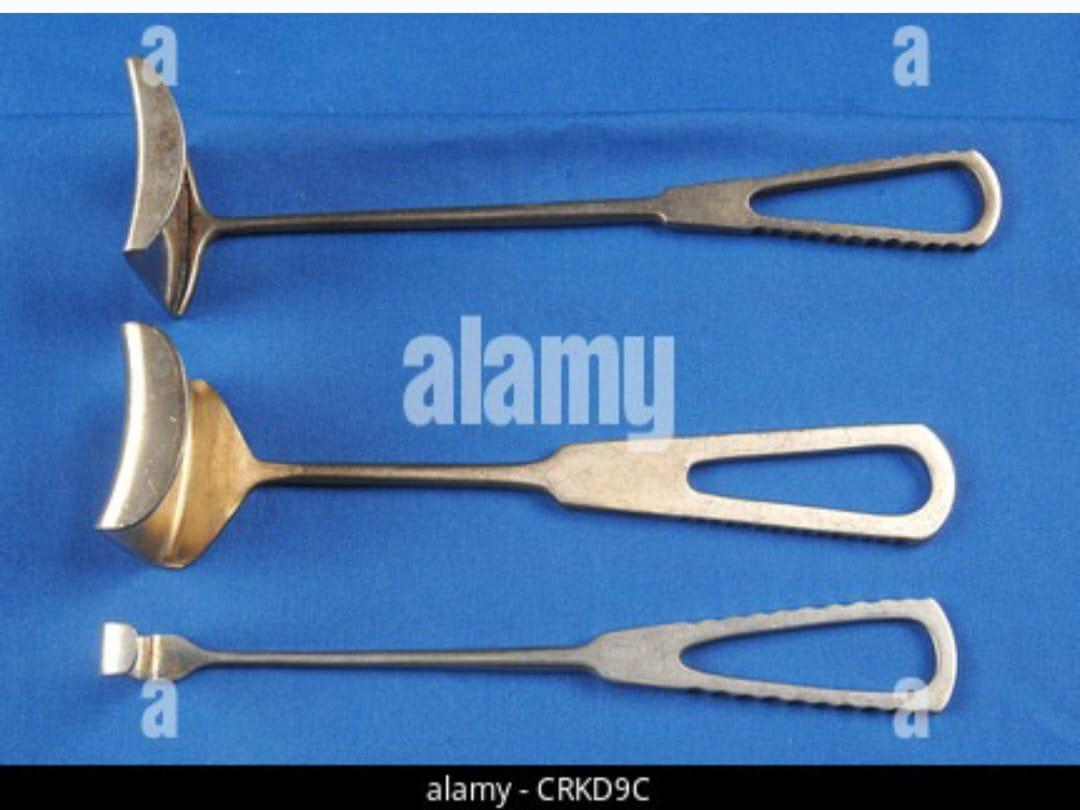Morris Retractor: (113, 52, 1012, 308), (86, 320, 956, 569)
